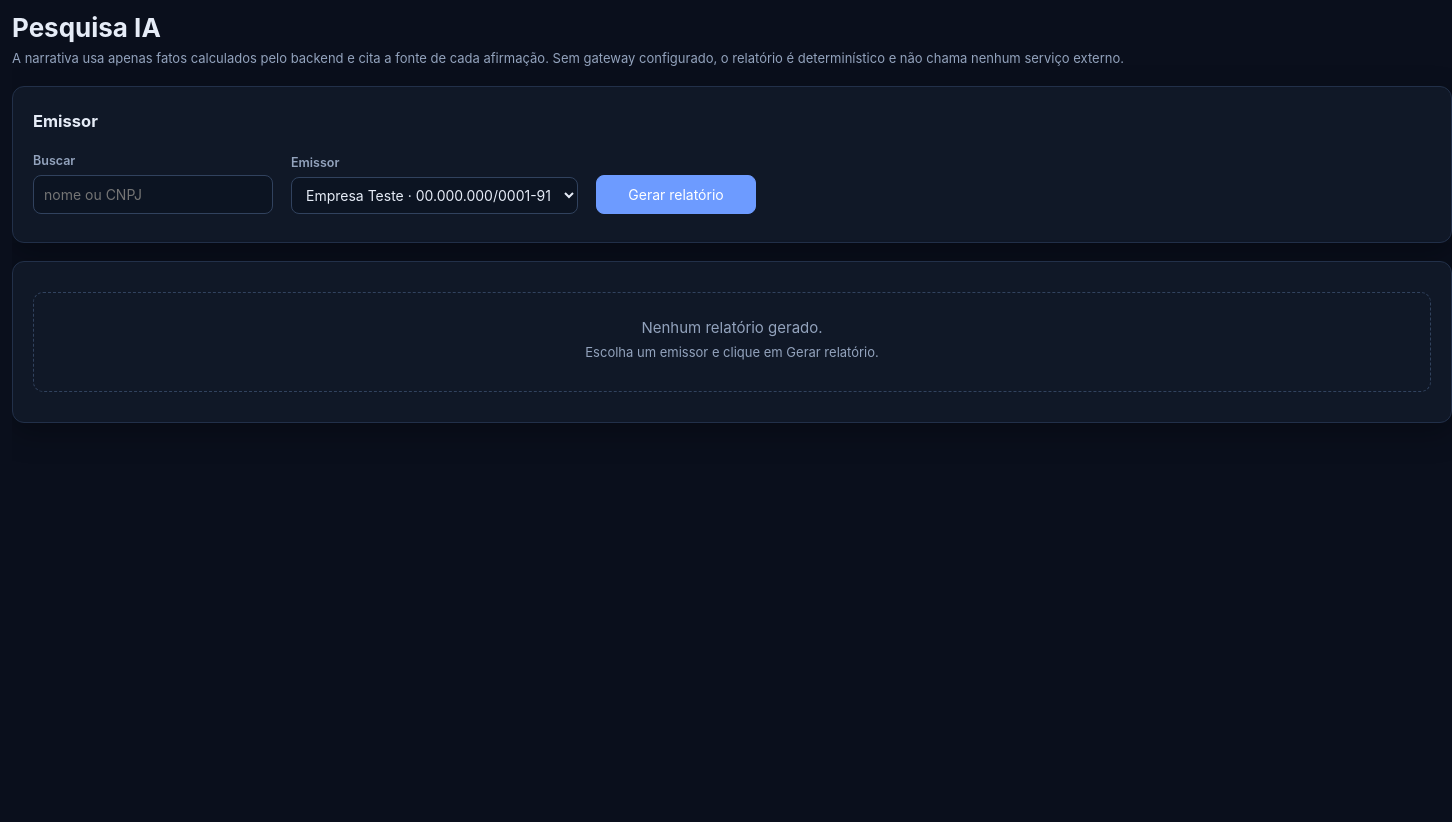
Test: ResearchPage › gera relatório com narrativa, evidências e limitações
This screenshot has width=1452, height=822.
Click the button "Gerar relatório" at (676, 194), box x1=596 y1=174 x2=756 y2=214
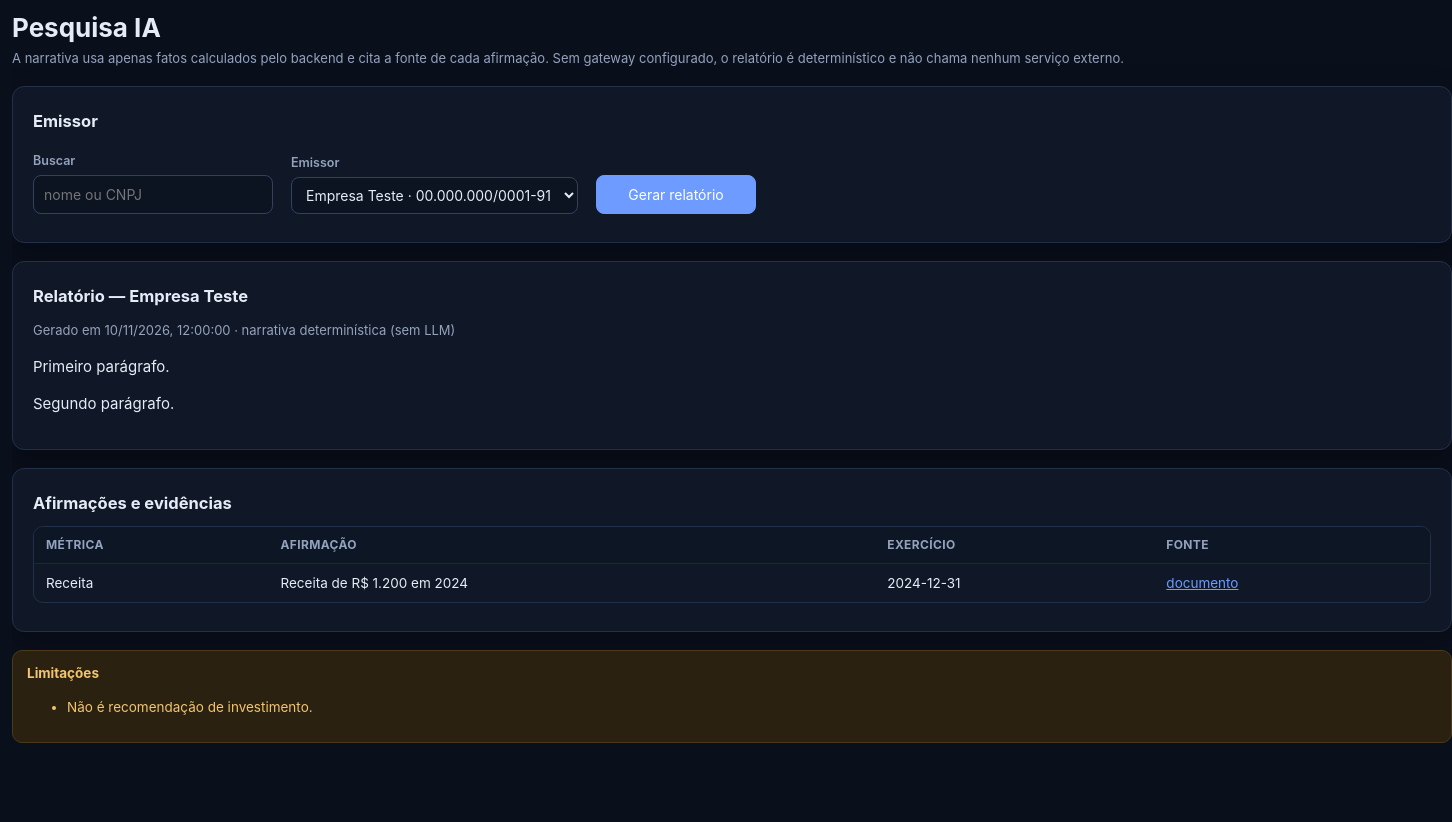
Check: the text "Primeiro parágrafo." is shown, box x1=33 y1=357 x2=170 y2=376
Check: the text "Segundo parágrafo." is shown, box x1=33 y1=394 x2=174 y2=413
Check: the text "Receita de R$ 1.200 em 2024" is shown, box x1=268 y1=563 x2=875 y2=602
